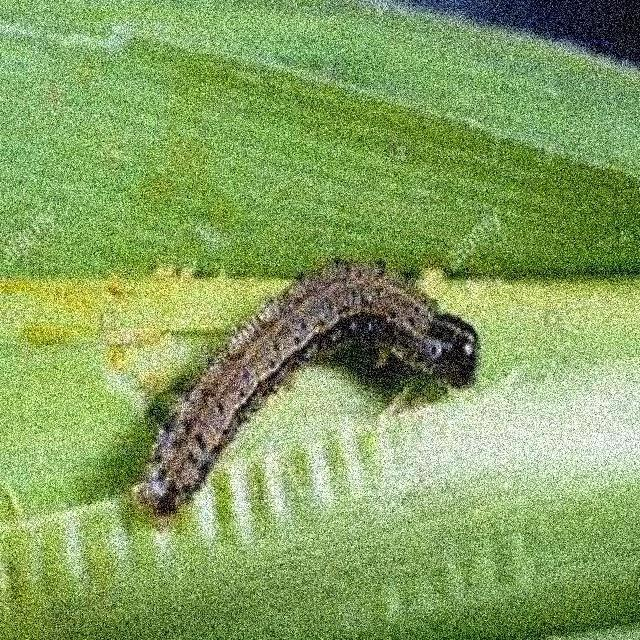gusano_cogollero: (140, 249, 478, 514)
